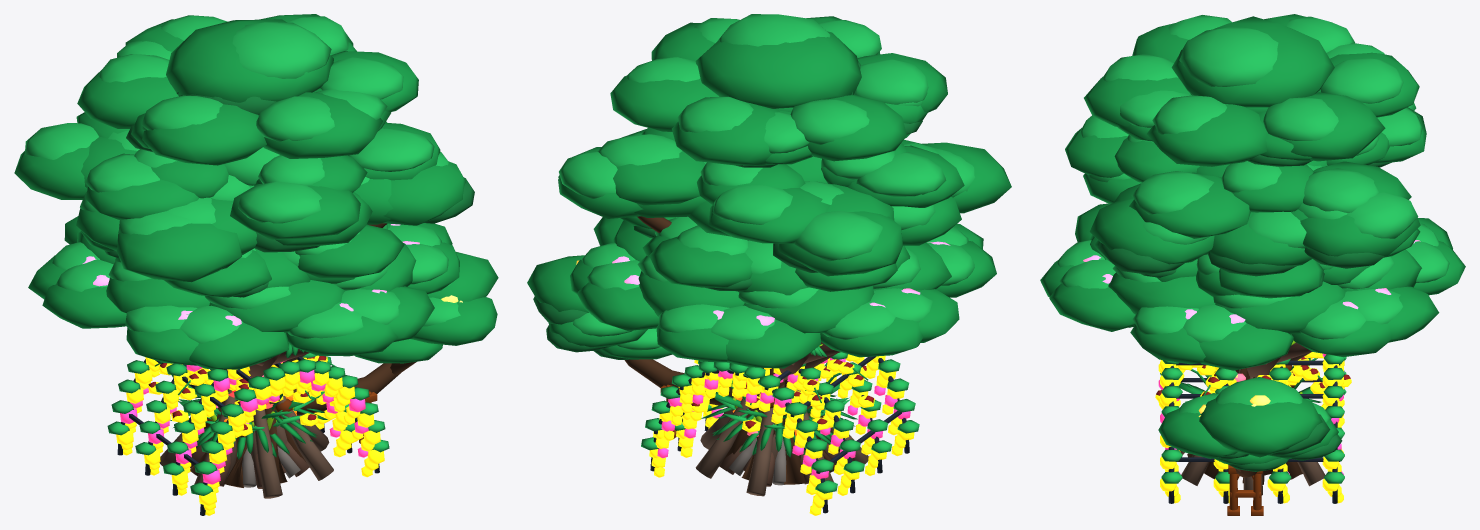
File: sbg_treasures_foliage.glb
3 views of the same model, side by side, from view 1: azimuth 30°, elevation 25°; view 2: azimuth 150°, elevation 25°; view 3: azimuth 270°, elevation 25° (orthographic).
Parts seen in each view (by area): view 1: SBG_Jelutong_CanopyMid, SBG_Tembusu_CanopyMid, SBG_RainTree_UmbrellaCrown, SBG_Jelutong_CanopyLush, SBG_Kapok_CanopyMid, SBG_RainTree_CanopyLush, SBG_Kapok_EmergentCrown, SBG_OrchidArch_GoldenOncidiums, SBG_OrchidArch_FoliageVines, SBG_Tembusu_CanopyLush, SBG_Kapok_ButtressedTrunk, SBG_OrchidArch_MagentaVandas (+10 smaller); view 2: SBG_Jelutong_CanopyMid, SBG_RainTree_UmbrellaCrown, SBG_Tembusu_CanopyMid, SBG_Jelutong_CanopyLush, SBG_Kapok_CanopyMid, SBG_RainTree_CanopyLush, SBG_Kapok_EmergentCrown, SBG_OrchidArch_GoldenOncidiums, SBG_Tembusu_CanopyLush, SBG_OrchidArch_FoliageVines, SBG_Kapok_ButtressedTrunk, SBG_Tembusu_FlutedTrunk (+11 smaller); view 3: SBG_Jelutong_CanopyMid, SBG_RainTree_UmbrellaCrown, SBG_Tembusu_CanopyMid, SBG_Jelutong_CanopyLush, SBG_Kapok_CanopyMid, SBG_RainTree_CanopyLush, SBG_Kapok_EmergentCrown, SBG_Tembusu_CanopyLush, SBG_Tembusu_CanopyDeep, SBG_OrchidArch_FoliageVines, SBG_OrchidArch_GoldenOncidiums, SBG_Cannonball_Canopy (+8 smaller).
Boxes of the visible parts, x1=… form: SBG_Jelutong_CanopyMid: x1=77, y1=14, x2=418, y2=198; SBG_Tembusu_CanopyMid: x1=14, y1=137, x2=498, y2=363; SBG_RainTree_UmbrellaCrown: x1=28, y1=216, x2=459, y2=369; SBG_Jelutong_CanopyLush: x1=99, y1=15, x2=403, y2=185; SBG_Kapok_CanopyMid: x1=76, y1=42, x2=440, y2=297; SBG_RainTree_CanopyLush: x1=52, y1=224, x2=448, y2=343; SBG_Kapok_EmergentCrown: x1=85, y1=41, x2=434, y2=257; SBG_OrchidArch_GoldenOncidiums: x1=116, y1=357, x2=384, y2=515; SBG_OrchidArch_FoliageVines: x1=107, y1=353, x2=389, y2=495; SBG_Tembusu_CanopyLush: x1=24, y1=121, x2=460, y2=326; SBG_Kapok_ButtressedTrunk: x1=159, y1=389, x2=333, y2=498; SBG_OrchidArch_MagentaVandas: x1=120, y1=360, x2=368, y2=484; SBG_Jelutong_CanopyMid: x1=610, y1=16, x2=947, y2=204; SBG_RainTree_UmbrellaCrown: x1=570, y1=217, x2=996, y2=368; SBG_Tembusu_CanopyMid: x1=527, y1=129, x2=1011, y2=359; SBG_Jelutong_CanopyLush: x1=626, y1=14, x2=928, y2=185; SBG_Kapok_CanopyMid: x1=613, y1=96, x2=964, y2=291; SBG_RainTree_CanopyLush: x1=581, y1=227, x2=974, y2=339; SBG_Kapok_EmergentCrown: x1=597, y1=100, x2=946, y2=255; SBG_OrchidArch_GoldenOncidiums: x1=649, y1=355, x2=914, y2=515; SBG_Tembusu_CanopyLush: x1=559, y1=132, x2=975, y2=350; SBG_OrchidArch_FoliageVines: x1=641, y1=352, x2=919, y2=493; SBG_Kapok_ButtressedTrunk: x1=695, y1=384, x2=868, y2=496; SBG_Tembusu_FlutedTrunk: x1=624, y1=216, x2=840, y2=484; SBG_Jelutong_CanopyMid: x1=1084, y1=14, x2=1419, y2=212; SBG_RainTree_UmbrellaCrown: x1=1040, y1=203, x2=1465, y2=370; SBG_Tembusu_CanopyMid: x1=1083, y1=160, x2=1420, y2=464; SBG_Jelutong_CanopyLush: x1=1103, y1=15, x2=1403, y2=192; SBG_Kapok_CanopyMid: x1=1065, y1=89, x2=1426, y2=298; SBG_RainTree_CanopyLush: x1=1057, y1=204, x2=1449, y2=342; SBG_Kapok_EmergentCrown: x1=1080, y1=43, x2=1422, y2=214; SBG_Tembusu_CanopyLush: x1=1089, y1=103, x2=1418, y2=422; SBG_Tembusu_CanopyDeep: x1=1098, y1=242, x2=1384, y2=471; SBG_OrchidArch_FoliageVines: x1=1160, y1=354, x2=1346, y2=483; SBG_OrchidArch_GoldenOncidiums: x1=1158, y1=358, x2=1344, y2=503; SBG_Cannonball_Canopy: x1=1156, y1=259, x2=1371, y2=297.
Size of the model in its own units: 10.84 by 10.57 by 9.37.
